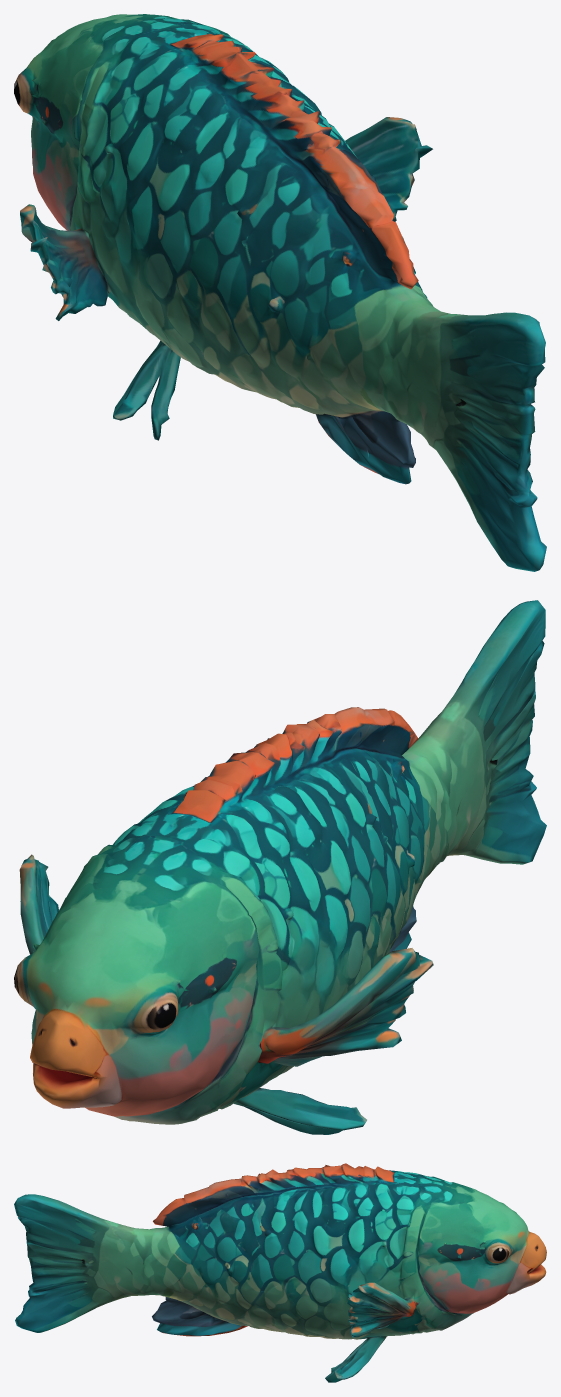
File: parrotfish.glb
The picture shows the model from 3 angles, top to bottom: view 1: azimuth 30°, elevation 25°; view 2: azimuth 150°, elevation 25°; view 3: azimuth 270°, elevation 25°; orthographic projection. The views are drawn at different scales.
Parts seen in each view (by area): view 1: tripo_node_94217019-f368-4a05-9aa3-905deba34612; view 2: tripo_node_94217019-f368-4a05-9aa3-905deba34612; view 3: tripo_node_94217019-f368-4a05-9aa3-905deba34612.
Part boxes in pixels (left/top/right/bottom): tripo_node_94217019-f368-4a05-9aa3-905deba34612: left=14, top=14, right=546, bottom=571; tripo_node_94217019-f368-4a05-9aa3-905deba34612: left=14, top=600, right=546, bottom=1134; tripo_node_94217019-f368-4a05-9aa3-905deba34612: left=14, top=1163, right=546, bottom=1382.
Size of the model in its own units: 0.47 by 0.4012 by 1.
Materials: 1 (1 with a texture image).
